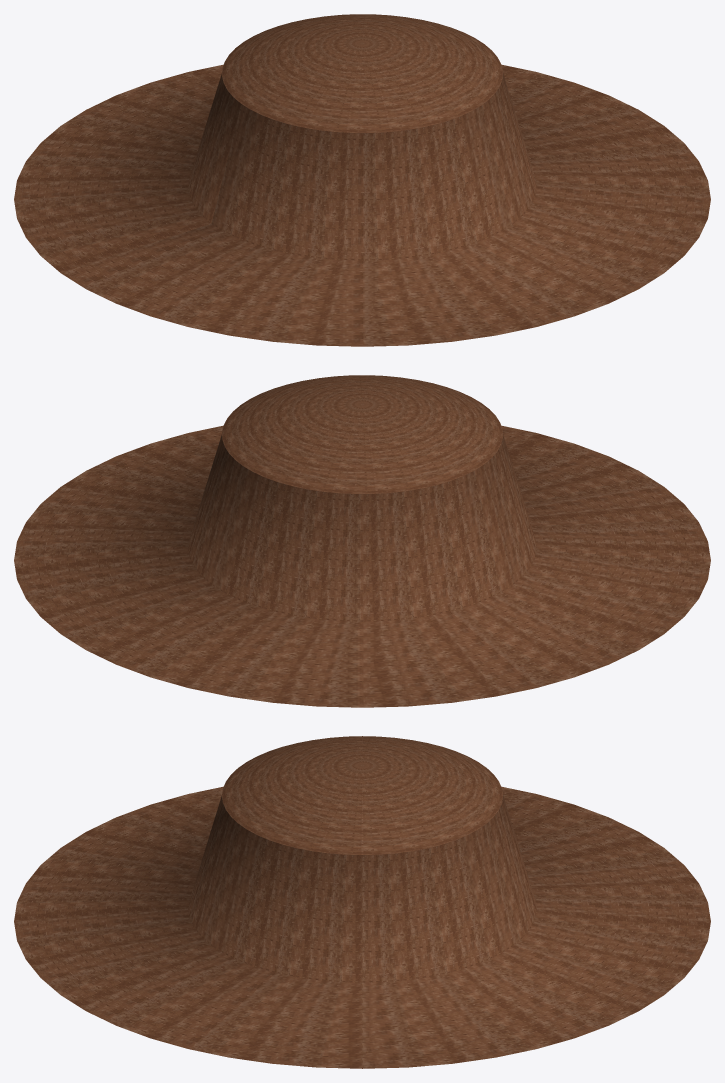
Rendered from StrawHat.glb.
The picture shows the model from 3 angles, top to bottom: view 1: azimuth 30°, elevation 25°; view 2: azimuth 150°, elevation 25°; view 3: azimuth 270°, elevation 25°; orthographic projection.
Visible parts, largest first — view 1: hat, hatTop; view 2: hat, hatTop; view 3: hat, hatTop.
Boxes of the visible parts, x1,y1,x2,y2 form: hat: [14, 64, 710, 346]; hatTop: [222, 14, 502, 132]; hat: [14, 425, 710, 707]; hatTop: [222, 375, 502, 493]; hat: [14, 786, 710, 1068]; hatTop: [222, 736, 502, 854].
Bounding box in the file's own units: 10 × 2.47 × 10.
2 materials, 2 textured.
